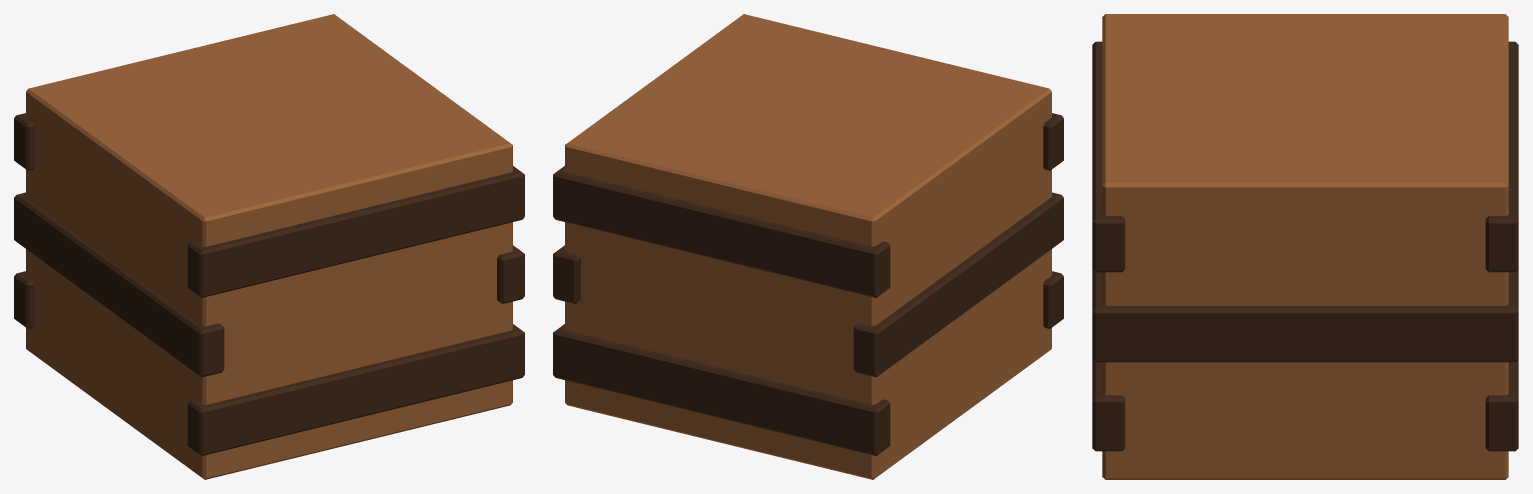
3 renders of one model, left to right at view 1: azimuth 30°, elevation 25°; view 2: azimuth 150°, elevation 25°; view 3: azimuth 270°, elevation 25°, orthographic. The views are drawn at different scales.
Visible parts, largest first — view 1: PT-wood_warm, PT-wood_dark; view 2: PT-wood_warm, PT-wood_dark; view 3: PT-wood_warm, PT-wood_dark.
Boxes of the visible parts, left/top/right/bottom form: PT-wood_warm: left=26, top=14, right=512, bottom=479; PT-wood_dark: left=14, top=113, right=524, bottom=455; PT-wood_warm: left=565, top=14, right=1051, bottom=479; PT-wood_dark: left=553, top=113, right=1063, bottom=455; PT-wood_warm: left=1102, top=14, right=1508, bottom=479; PT-wood_dark: left=1092, top=41, right=1518, bottom=451.
Bounding box in the file's own units: 0.65 × 0.5 × 0.65.
